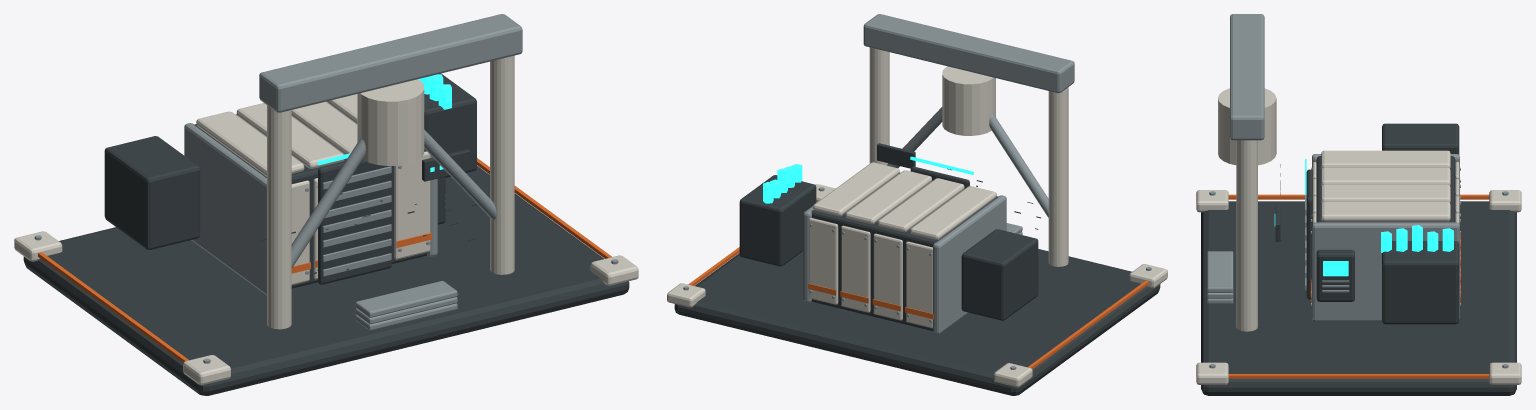
Rendered from SM_AlienMaterialHarvester_Body.002.fbx.
The picture shows the model from 3 angles, left to right: view 1: azimuth 30°, elevation 25°; view 2: azimuth 150°, elevation 25°; view 3: azimuth 270°, elevation 25°; orthographic projection. The views are drawn at different scales.
Parts seen in each view (by area): view 1: SM_AlienMaterialHarvester_Body.002; view 2: SM_AlienMaterialHarvester_Body.002; view 3: SM_AlienMaterialHarvester_Body.002.
Part boxes in pixels (x1,y1,x2,y2): SM_AlienMaterialHarvester_Body.002: (14, 14, 638, 395); SM_AlienMaterialHarvester_Body.002: (667, 14, 1167, 395); SM_AlienMaterialHarvester_Body.002: (1196, 14, 1521, 395).
Bounding box in the file's own units: 572 × 422 × 347.
